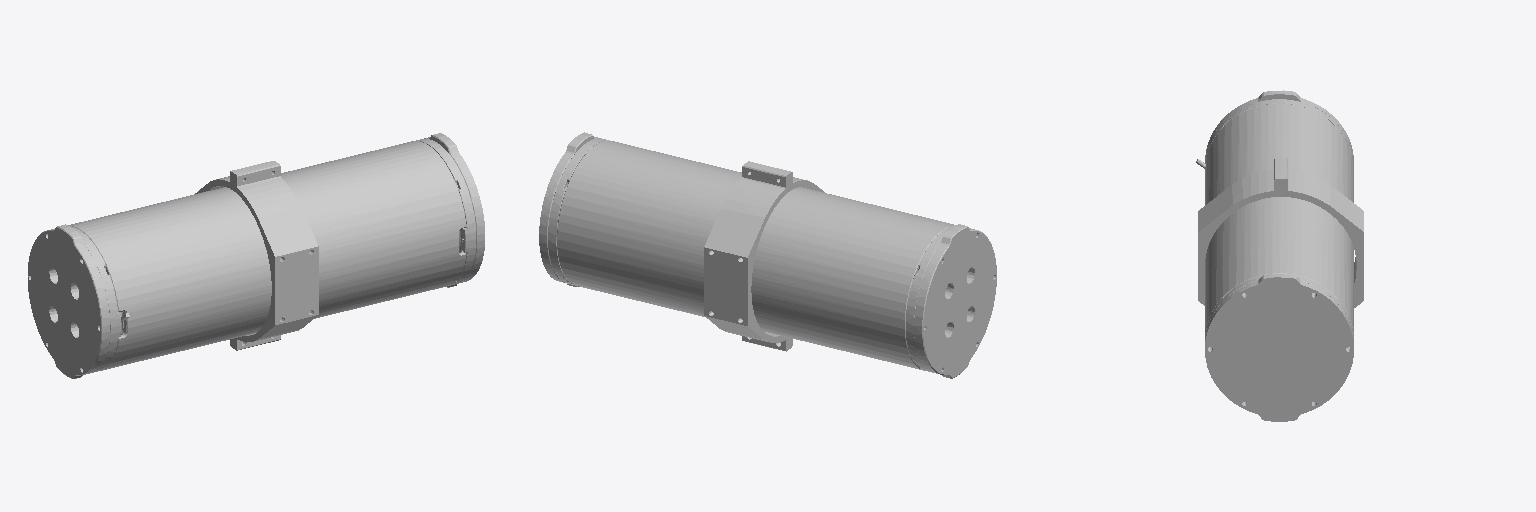
Rendered from second_cylinder_vis.obj.
3 renders of one model, left to right at view 1: azimuth 30°, elevation 25°; view 2: azimuth 150°, elevation 25°; view 3: azimuth 270°, elevation 25°, orthographic.
Parts seen in each view (by area): view 1: Second_cylinder_vis; view 2: Second_cylinder_vis; view 3: Second_cylinder_vis.
Boxes of the visible parts, x1=… form: Second_cylinder_vis: x1=28, y1=133, x2=484, y2=378; Second_cylinder_vis: x1=539, y1=132, x2=996, y2=378; Second_cylinder_vis: x1=1196, y1=90, x2=1363, y2=421.
Size of the model in its own units: 0.264 by 0.1156 by 0.1004.